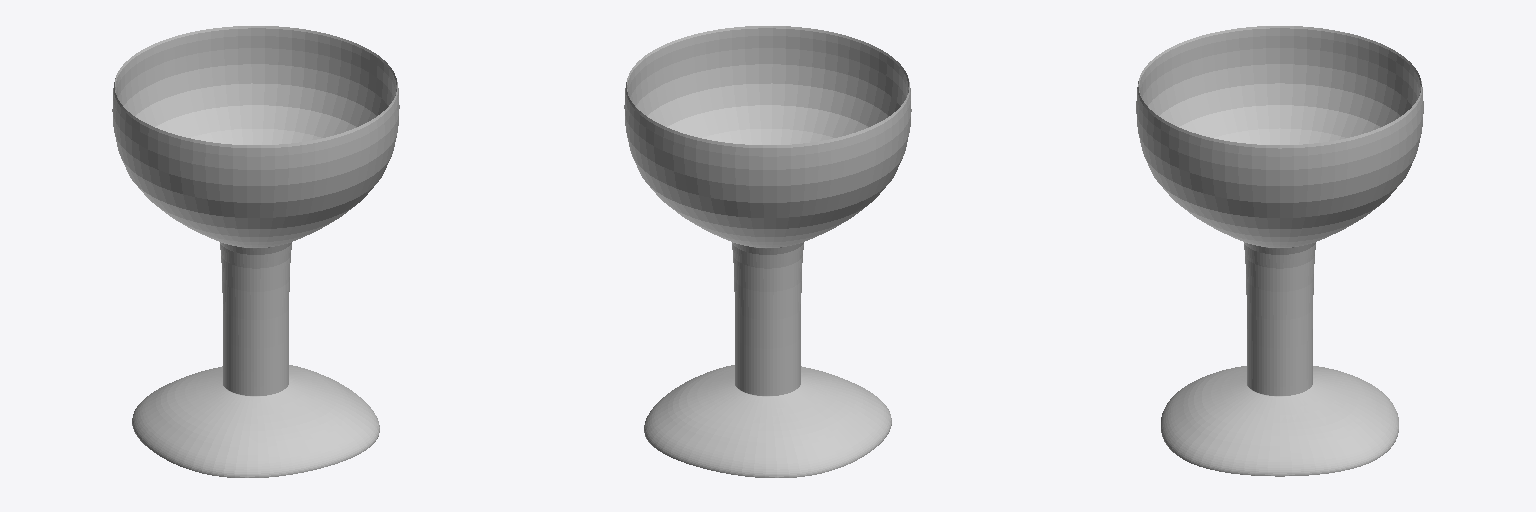
The model's file is cup.obj.
The picture shows the model from 3 angles: view 1: azimuth 30°, elevation 25°; view 2: azimuth 150°, elevation 25°; view 3: azimuth 270°, elevation 25°; orthographic projection.
Visible parts, largest first — view 1: cup_cup.mesh; view 2: cup_cup.mesh; view 3: cup_cup.mesh.
Part boxes in pixels (x1,y1,x2,y2): cup_cup.mesh: (112,26,399,477); cup_cup.mesh: (624,26,911,477); cup_cup.mesh: (1136,26,1423,476).
Bounding box in the file's own units: 2.37 × 3.1 × 2.37.